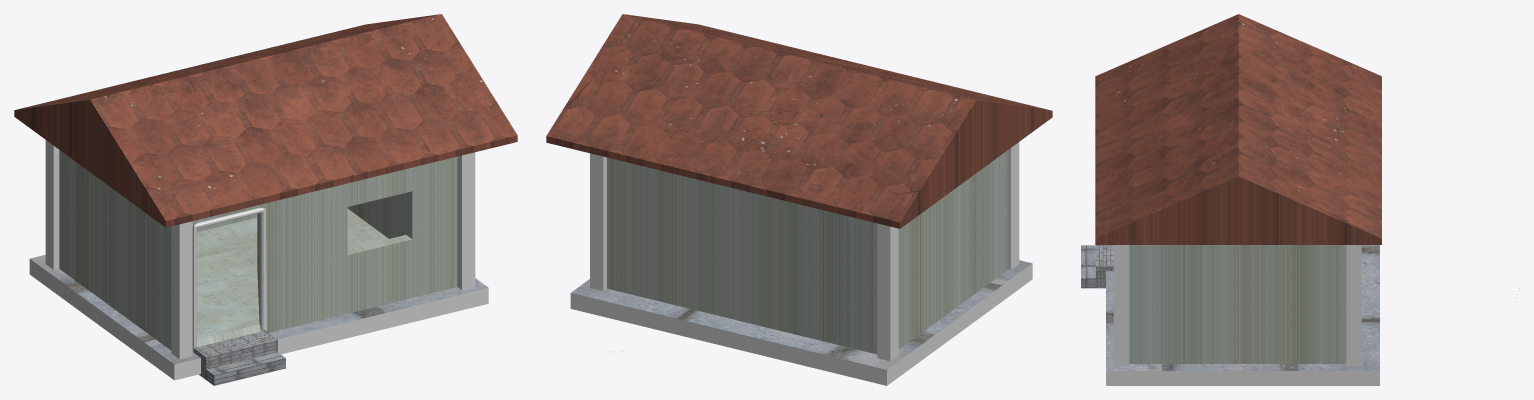
The model's file is casa_3.fbx.
The picture shows the model from 3 angles, left to right: view 1: azimuth 30°, elevation 25°; view 2: azimuth 150°, elevation 25°; view 3: azimuth 270°, elevation 25°; orthographic projection. The views are drawn at different scales.
Visible parts, largest first — view 1: Plano.001, Plano, Cubo.006, Cubo, Cubo.001, Cubo.010, Cubo.003, Plano.002, Cubo.011; view 2: Plano.001, Plano, Cubo.006, Cubo.003, Cubo.002, Cubo; view 3: Plano.001, Plano, Cubo.006, Cubo.001, Cubo.002, Cubo.011, Cubo.010.
Part boxes in pixels (x1,y1,x2,y2): Plano.001: (14,14,517,227); Plano: (59,150,457,350); Cubo.006: (29,255,488,380); Cubo: (171,221,192,359); Cubo.001: (457,152,475,290); Cubo.010: (194,331,277,379); Cubo.003: (45,140,59,269); Plano.002: (192,207,266,351); Cubo.011: (206,352,285,385); Plano.001: (546,14,1052,228); Plano: (607,150,1008,354); Cubo.006: (570,260,1032,385); Cubo.003: (877,223,898,361); Cubo.002: (590,153,606,290); Cubo: (1008,142,1019,269); Plano.001: (1095,14,1381,244); Plano: (1129,245,1346,363); Cubo.006: (1106,245,1379,385); Cubo.001: (1113,245,1129,366); Cubo.002: (1346,245,1361,366); Cubo.011: (1081,245,1104,288); Cubo.010: (1096,245,1113,288).
Bounding box in the file's own units: 563 × 359 × 643.
Materials: 10 (3 with a texture image).
